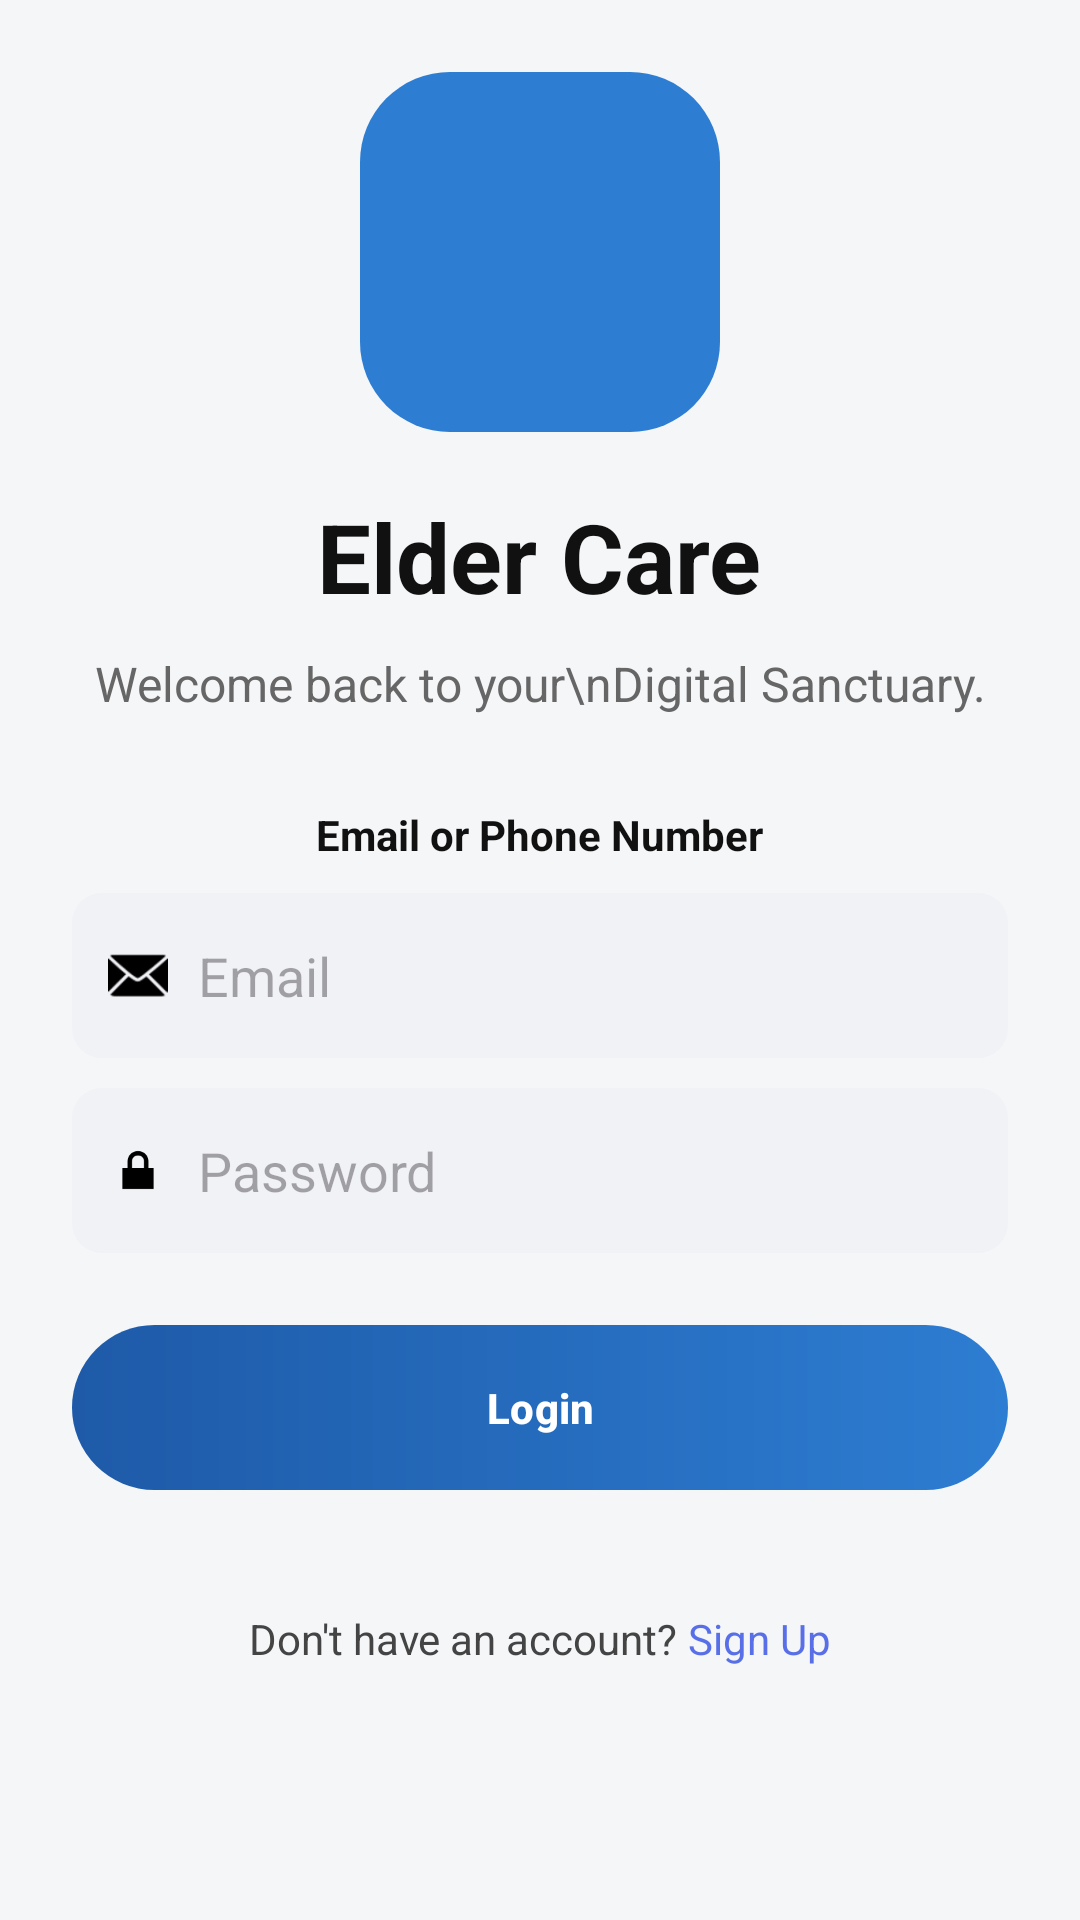

Where to tap for icons on this 1080x1920 app screen, as [x,y]:
lock: [138,1170]
